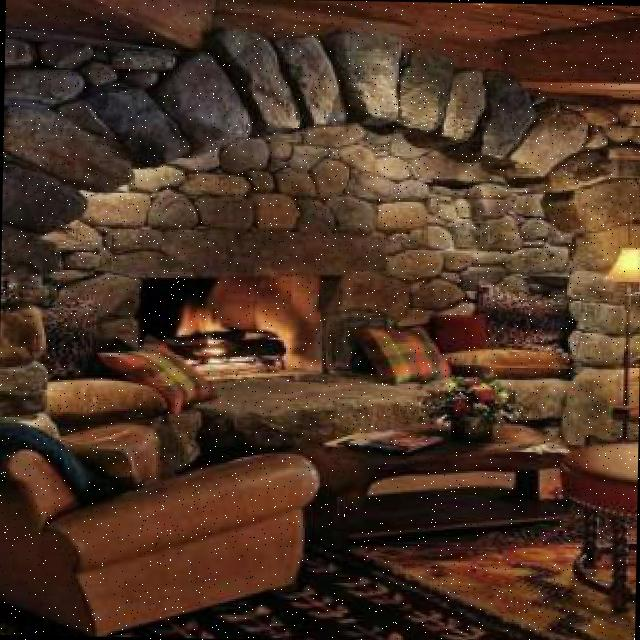fire: (166, 286, 246, 356)
